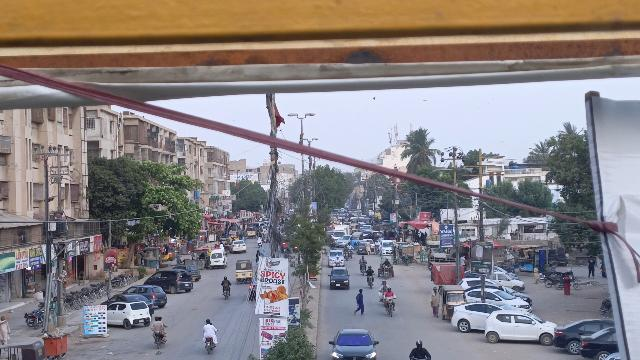Bike: (384, 297, 397, 319), (203, 337, 216, 357), (153, 331, 165, 349), (365, 275, 377, 288), (221, 287, 231, 299)
Car: (484, 308, 556, 349), (549, 315, 610, 354), (324, 326, 379, 360), (452, 302, 499, 333), (104, 302, 152, 329), (143, 269, 194, 293), (578, 325, 618, 355), (123, 283, 167, 307), (326, 266, 352, 290)
Cart: (378, 254, 396, 278)
Person: (409, 338, 433, 360), (352, 285, 366, 317), (428, 285, 441, 319), (200, 316, 218, 339), (0, 315, 10, 346), (151, 313, 166, 333), (384, 286, 398, 301), (220, 274, 233, 289), (365, 265, 376, 277), (383, 256, 391, 267)
Rickshaw: (438, 284, 464, 320), (234, 259, 254, 284)
Van: (209, 250, 228, 269)
